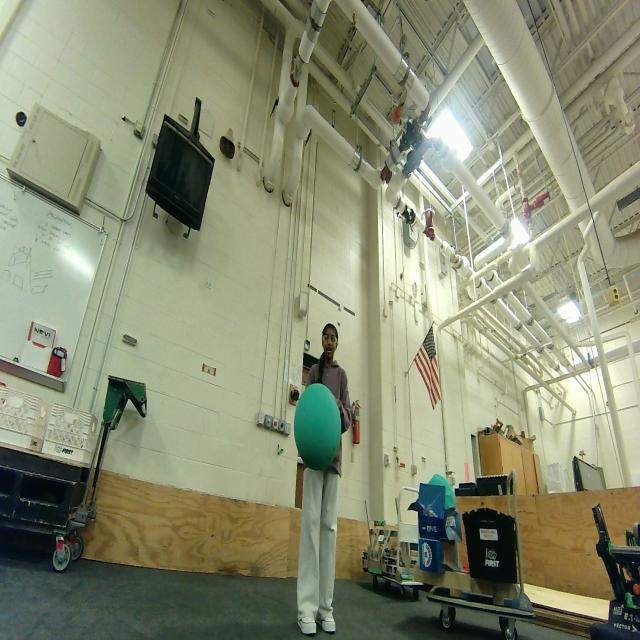algae: (293, 381, 343, 475)
